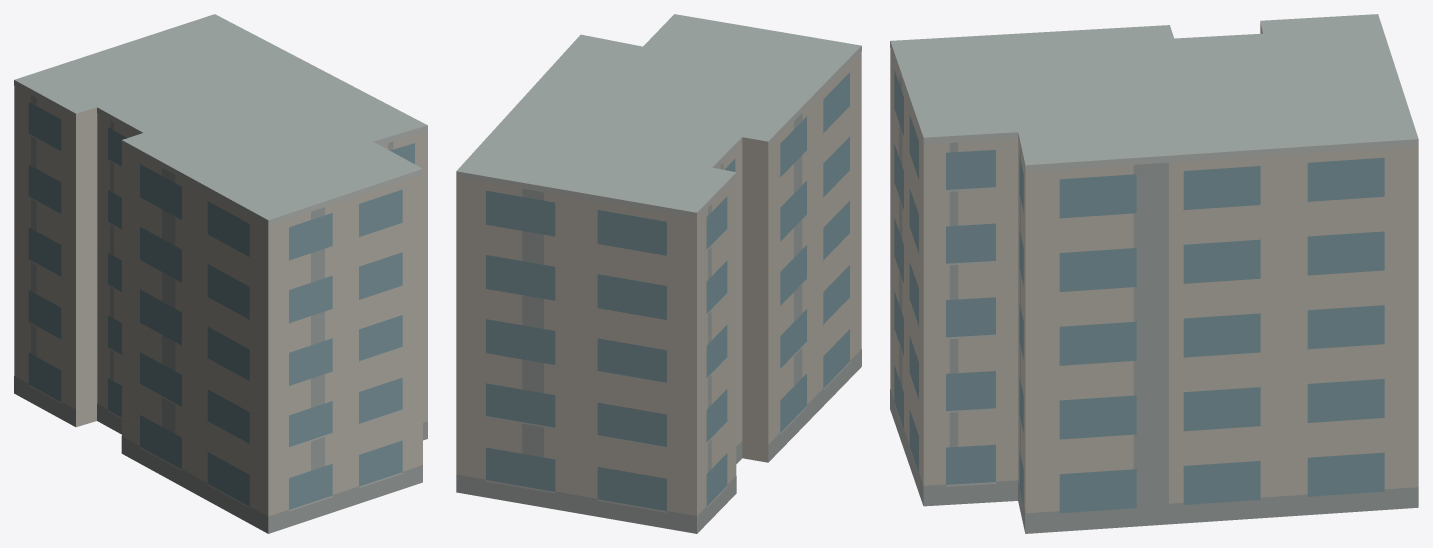
The model's file is survey-upis-32576114.glb.
3 views of the same model, side by side, from view 1: azimuth 30°, elevation 25°; view 2: azimuth 150°, elevation 25°; view 3: azimuth 270°, elevation 25° (orthographic). The views are drawn at different scales.
Visible parts, largest first — view 1: survey-upis-32576114.tmp; view 2: survey-upis-32576114.tmp; view 3: survey-upis-32576114.tmp.
Part boxes in pixels (x1,y1,x2,y2): survey-upis-32576114.tmp: [14, 14, 427, 533]; survey-upis-32576114.tmp: [456, 14, 861, 533]; survey-upis-32576114.tmp: [890, 14, 1418, 533].
Bounding box in the file's own units: 11.63 × 13.2 × 17.16.
